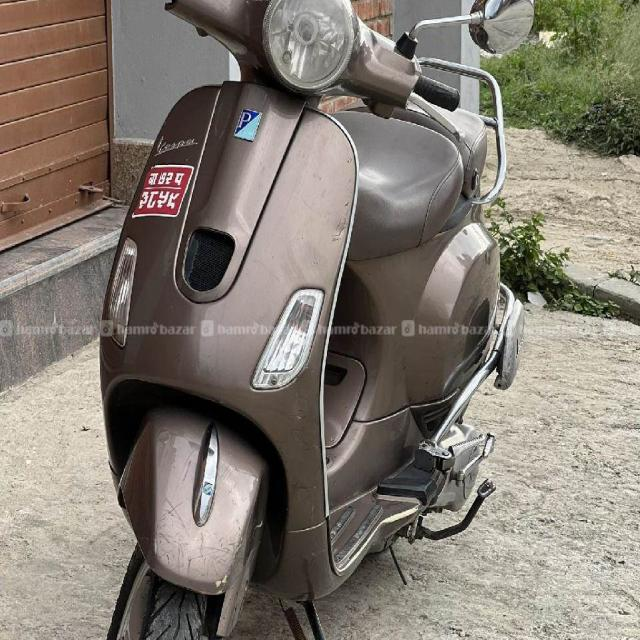License-plate: (128, 158, 197, 220)
